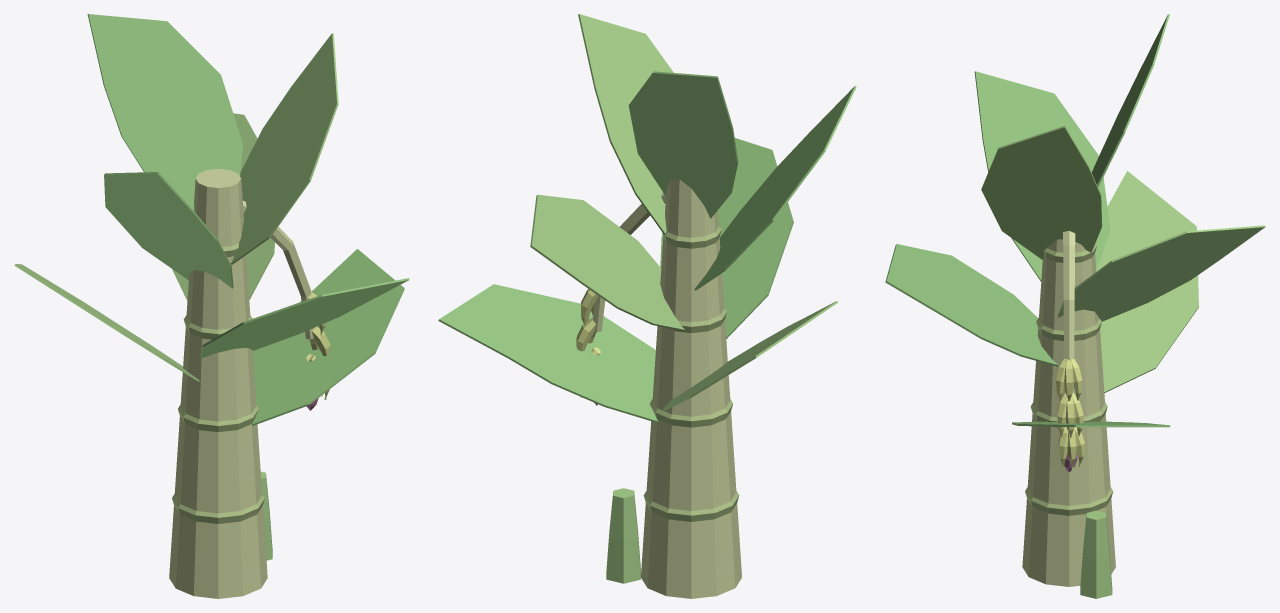
Rendered from 33-Agricultura_bananero.glb.
3 renders of one model, left to right at view 1: azimuth 30°, elevation 25°; view 2: azimuth 150°, elevation 25°; view 3: azimuth 270°, elevation 25°, orthographic. The views are drawn at different scales.
Visible parts, largest first — view 1: SM_Bananero_Pseudotallo, SM_Bananero_Hoja_6, SM_Bananero_Hoja_5, SM_Bananero_Hoja_0, SM_Bananero_Hoja_4, SM_Bananero_Hoja_2, SM_Bananero_Hoja_3, SM_Bananero_Racimo, SM_Bananero_Hoja_1, SM_Bananero_Hijo; view 2: SM_Bananero_Pseudotallo, SM_Bananero_Hoja_0, SM_Bananero_Hoja_6, SM_Bananero_Hoja_3, SM_Bananero_Hoja_5, SM_Bananero_Hoja_2, SM_Bananero_Hoja_4, SM_Bananero_Hijo, SM_Bananero_Hoja_1, SM_Bananero_Racimo; view 3: SM_Bananero_Pseudotallo, SM_Bananero_Hoja_5, SM_Bananero_Hoja_1, SM_Bananero_Hoja_2, SM_Bananero_Hoja_3, SM_Bananero_Hoja_4, SM_Bananero_Racimo, SM_Bananero_Hijo, SM_Bananero_Hoja_6, SM_Bananero_Hoja_0.
Boxes of the visible parts, left/top/right/bottom form: SM_Bananero_Pseudotallo: left=169, top=168, right=267, bottom=598; SM_Bananero_Hoja_6: left=87, top=14, right=243, bottom=211; SM_Bananero_Hoja_5: left=230, top=33, right=338, bottom=264; SM_Bananero_Hoja_0: left=252, top=249, right=404, bottom=425; SM_Bananero_Hoja_4: left=104, top=172, right=233, bottom=288; SM_Bananero_Hoja_2: left=200, top=278, right=409, bottom=358; SM_Bananero_Hoja_3: left=172, top=113, right=275, bottom=300; SM_Bananero_Racimo: left=242, top=201, right=330, bottom=399; SM_Bananero_Hoja_1: left=14, top=264, right=199, bottom=381; SM_Bananero_Hijo: left=260, top=471, right=272, bottom=560; SM_Bananero_Pseudotallo: left=641, top=179, right=741, bottom=598; SM_Bananero_Hoja_0: left=438, top=284, right=658, bottom=423; SM_Bananero_Hoja_6: left=628, top=71, right=738, bottom=218; SM_Bananero_Hoja_3: left=530, top=194, right=684, bottom=330; SM_Bananero_Hoja_5: left=578, top=14, right=673, bottom=234; SM_Bananero_Hoja_2: left=660, top=138, right=793, bottom=339; SM_Bananero_Hoja_4: left=694, top=86, right=856, bottom=290; SM_Bananero_Hijo: left=606, top=488, right=640, bottom=583; SM_Bananero_Hoja_1: left=663, top=301, right=837, bottom=410; SM_Bananero_Racimo: left=576, top=192, right=665, bottom=397; SM_Bananero_Pseudotallo: left=1022, top=239, right=1115, bottom=586; SM_Bananero_Hoja_5: left=981, top=126, right=1102, bottom=259; SM_Bananero_Hoja_1: left=1096, top=171, right=1198, bottom=393; SM_Bananero_Hoja_2: left=885, top=244, right=1058, bottom=366; SM_Bananero_Hoja_3: left=1057, top=225, right=1265, bottom=321; SM_Bananero_Hoja_4: left=974, top=71, right=1110, bottom=281; SM_Bananero_Racimo: left=1056, top=231, right=1084, bottom=468; SM_Bananero_Hijo: left=1080, top=510, right=1112, bottom=598; SM_Bananero_Hoja_6: left=1091, top=14, right=1169, bottom=187; SM_Bananero_Hoja_0: left=1012, top=421, right=1170, bottom=427.
Size of the model in its own units: 1.63 by 2.32 by 1.54.
